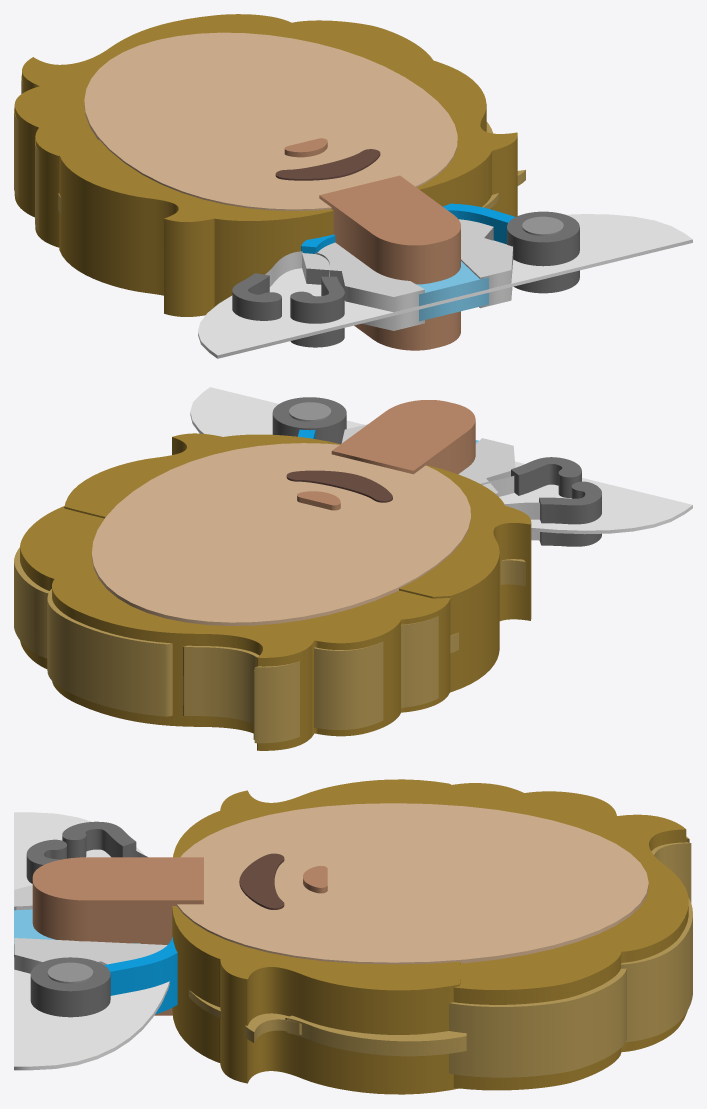
The model's file is emoji_u1f9d1_1f3fc_200d_2695.glb.
The picture shows the model from 3 angles, top to bottom: view 1: azimuth 30°, elevation 25°; view 2: azimuth 150°, elevation 25°; view 3: azimuth 270°, elevation 25°; orthographic projection. The views are drawn at different scales.
Visible parts, largest first — view 1: emoji_u1f9d1_1f3fc_200d_2695; view 2: emoji_u1f9d1_1f3fc_200d_2695; view 3: emoji_u1f9d1_1f3fc_200d_2695.
Boxes of the visible parts, box(x1,y1,x2,y2) form: emoji_u1f9d1_1f3fc_200d_2695: box(14, 14, 692, 358); emoji_u1f9d1_1f3fc_200d_2695: box(14, 387, 692, 750); emoji_u1f9d1_1f3fc_200d_2695: box(14, 779, 692, 1094).
Size of the model in its own units: 0.0293 by 0.0064 by 0.0331.
